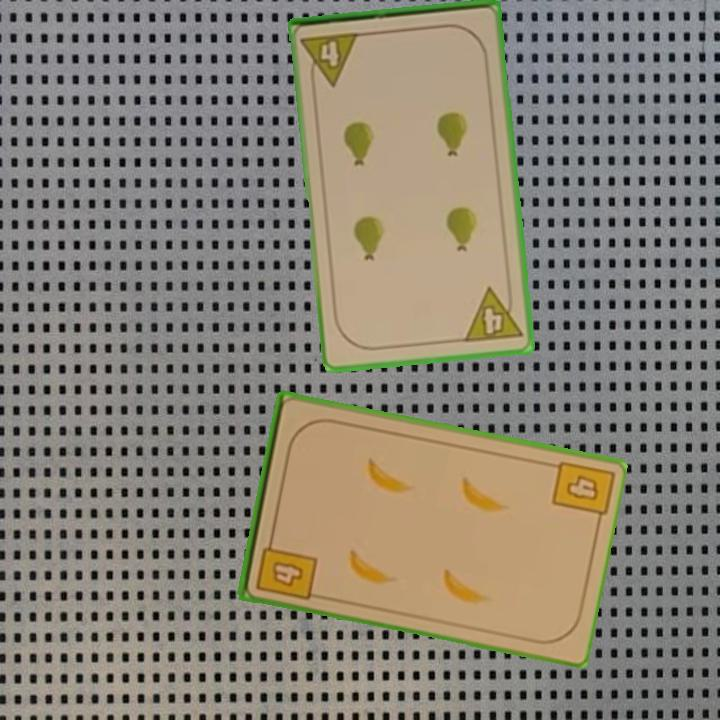4b: (252, 530, 319, 604), (563, 470, 603, 504)
4p: (460, 282, 525, 346), (298, 29, 363, 90)
